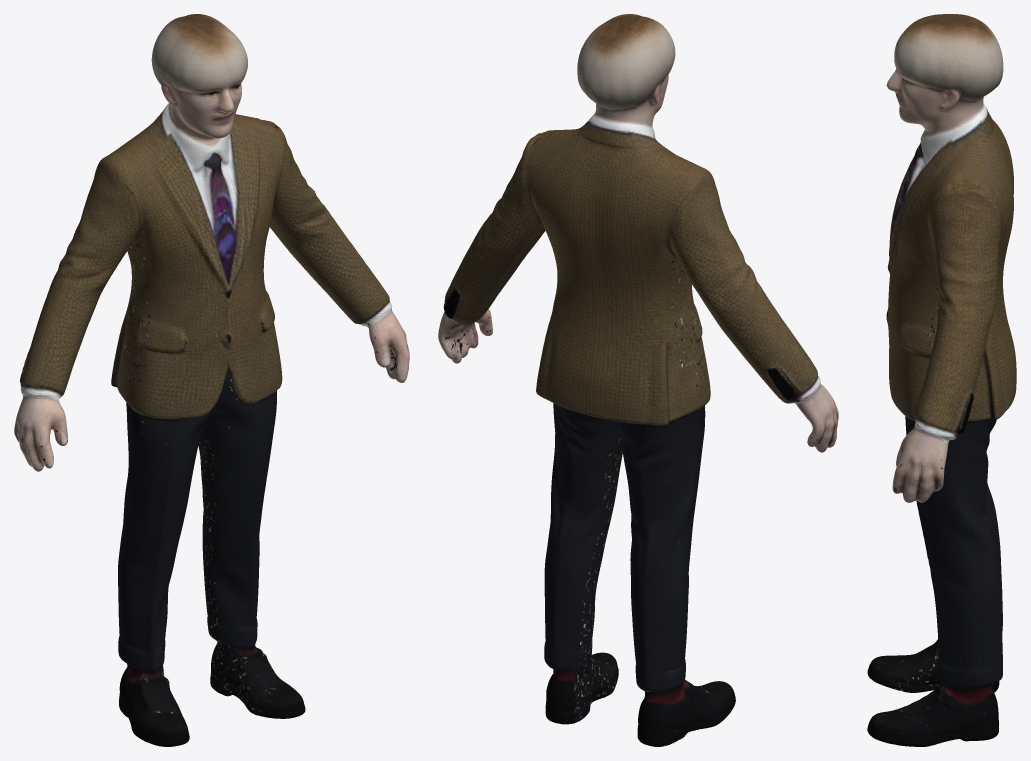
3 views of the same model, side by side, from view 1: azimuth 30°, elevation 25°; view 2: azimuth 150°, elevation 25°; view 3: azimuth 270°, elevation 25° (orthographic).
Parts seen in each view (by area): view 1: geometry_0; view 2: geometry_0; view 3: geometry_0.
Boxes of the visible parts, x1,y1,x2,y2 form: geometry_0: (14, 14, 409, 746); geometry_0: (438, 14, 838, 746); geometry_0: (867, 14, 1016, 746).
Size of the model in its own units: 1.17 by 1.99 by 0.3898.
1 material, 1 textured.
